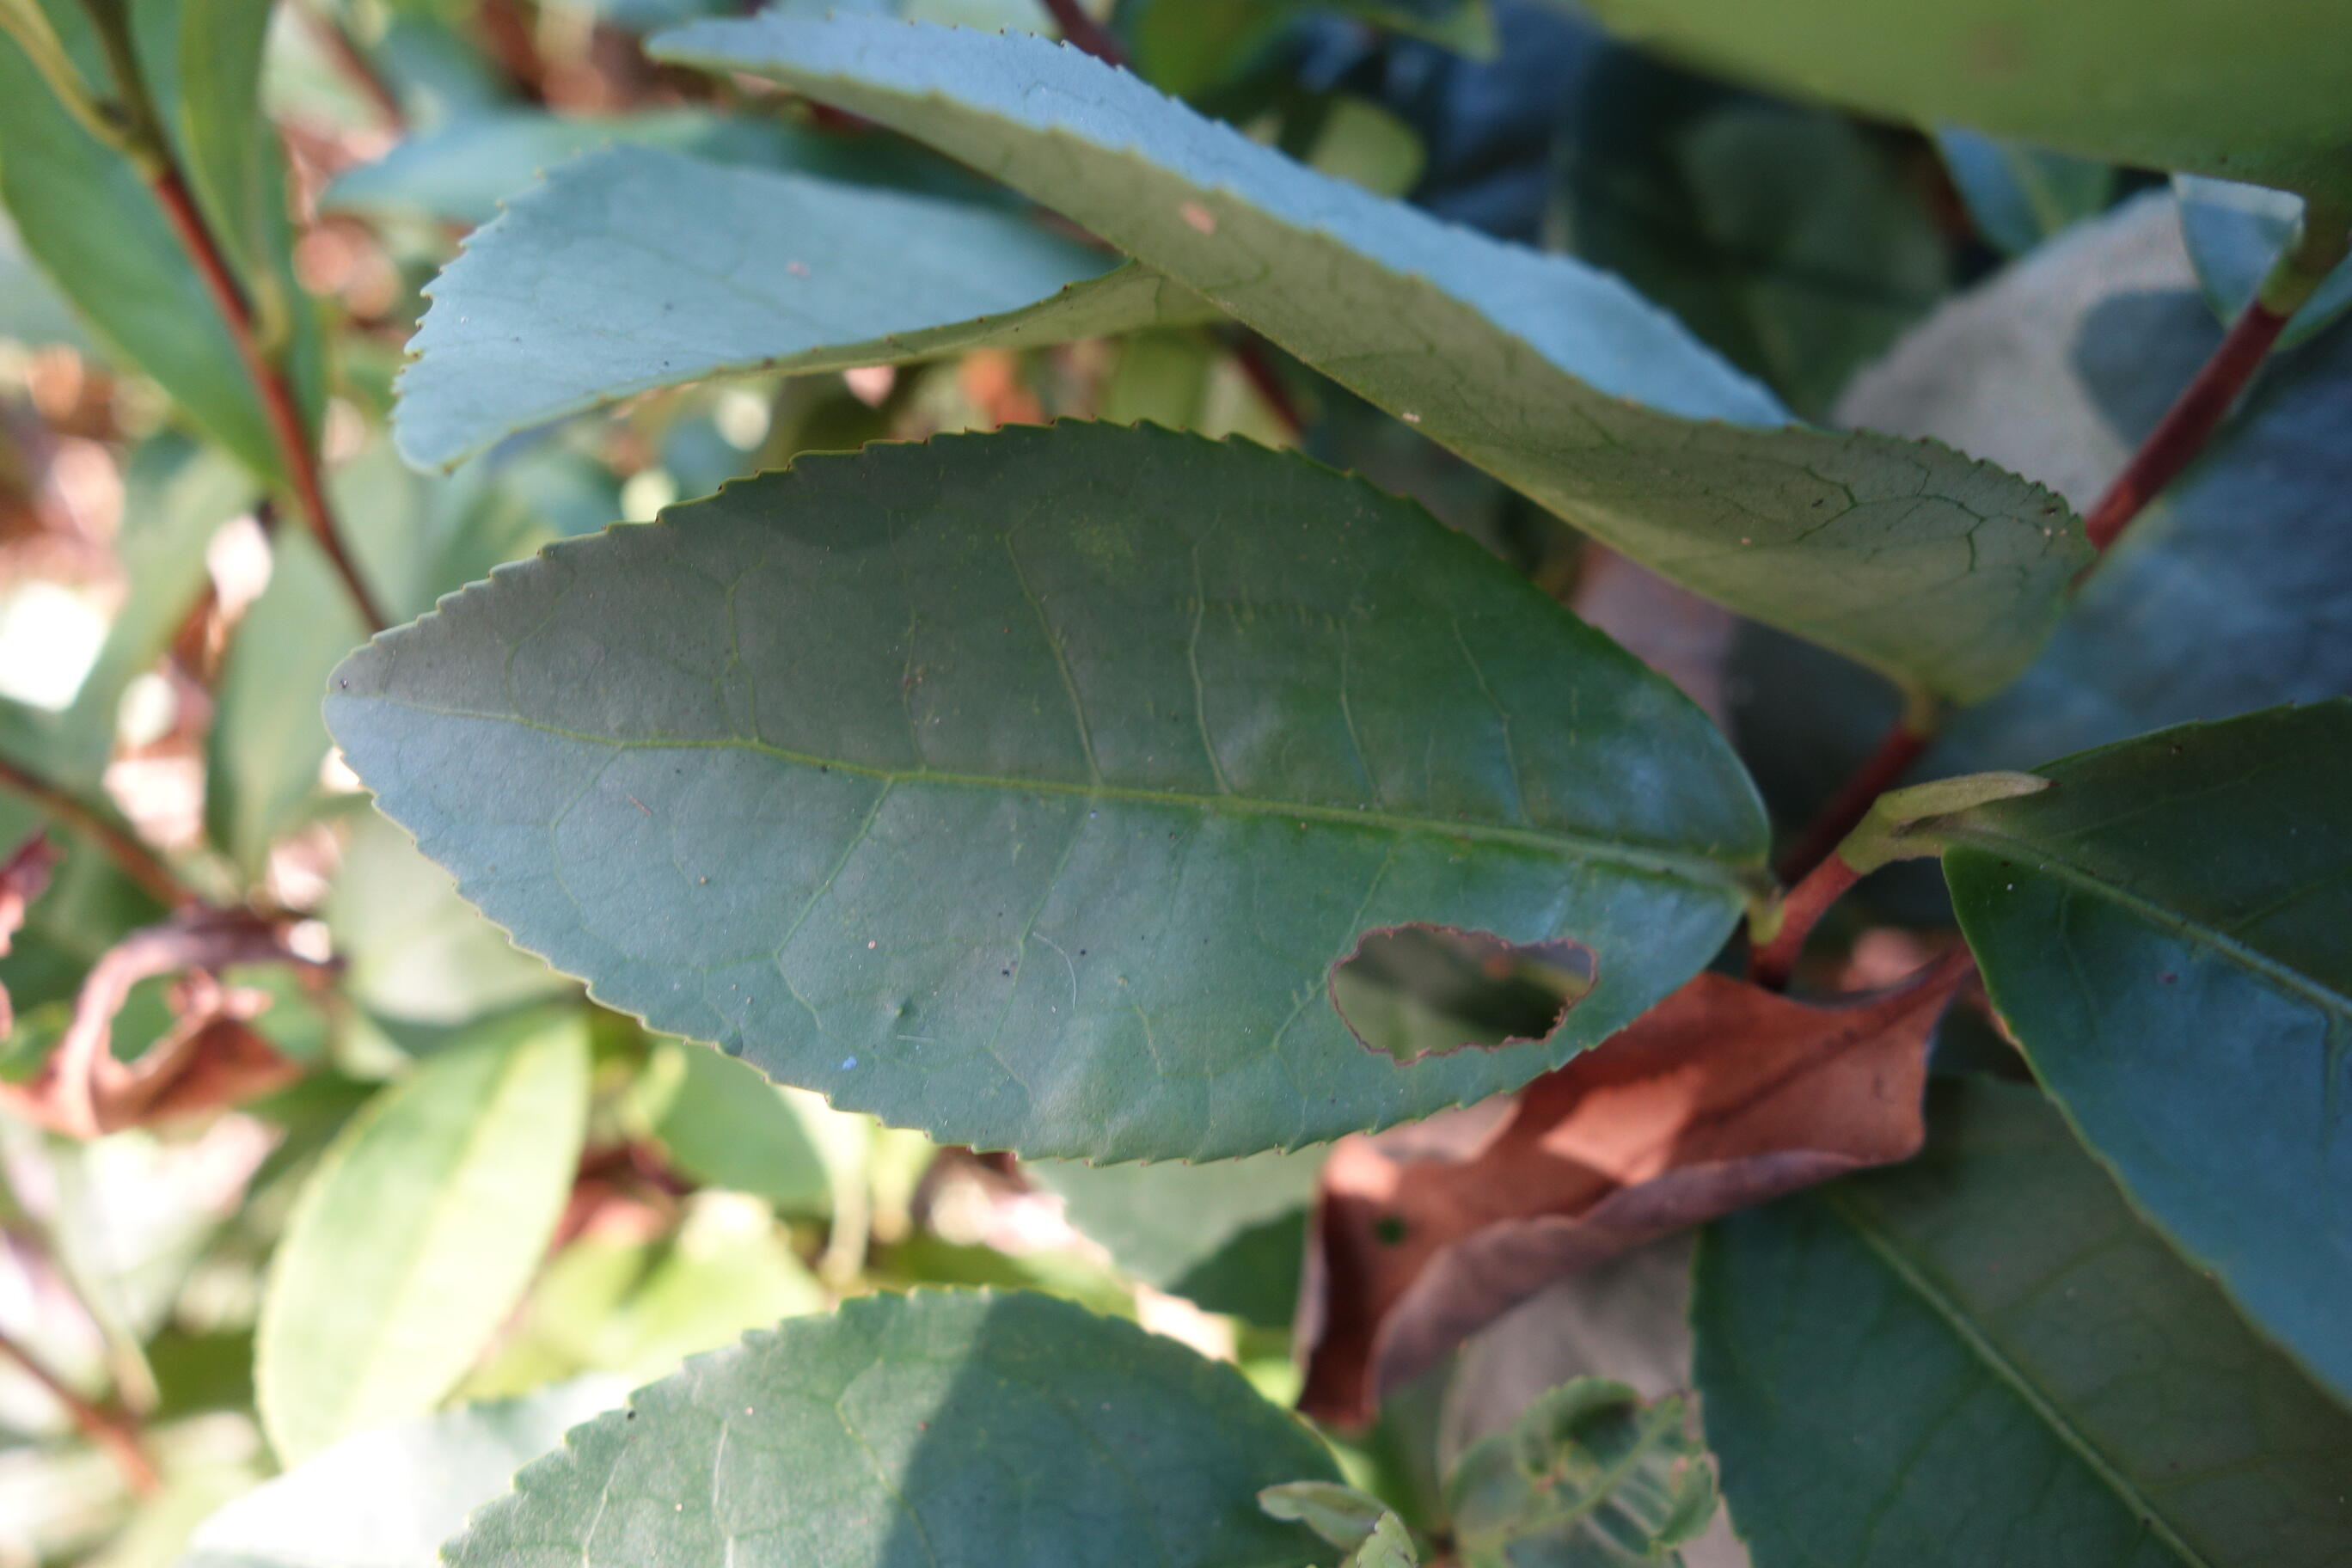chihuo_low: (324, 413, 1774, 1169)
